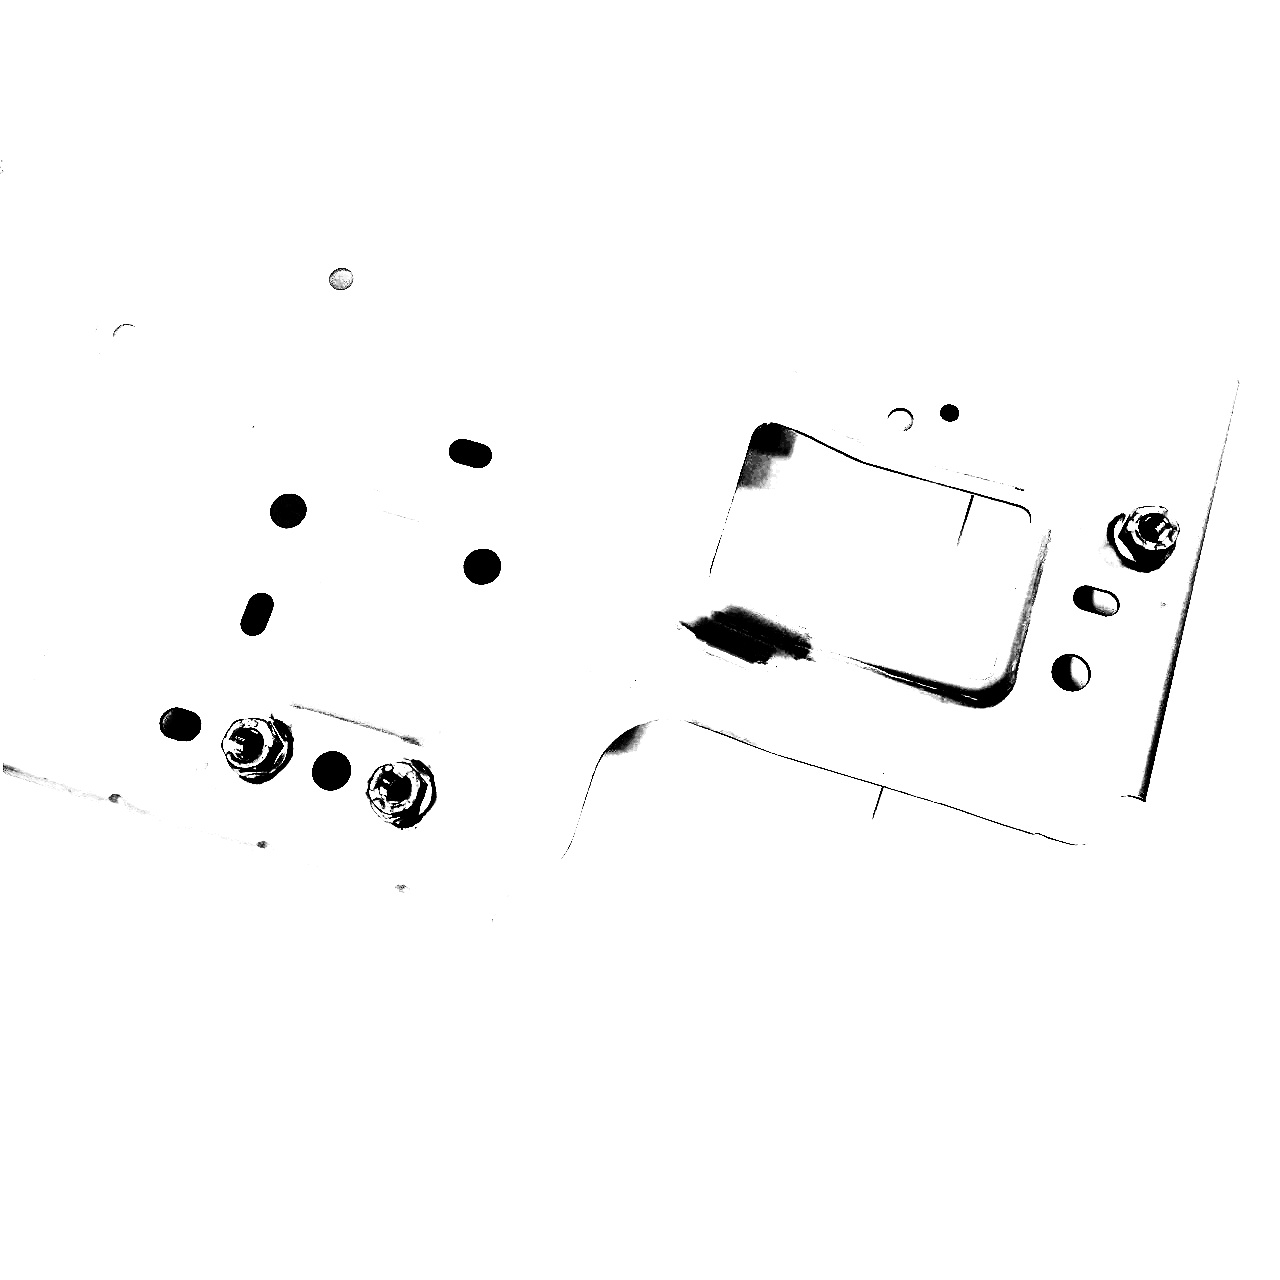dog: (218, 708, 297, 787), (362, 753, 440, 832), (1107, 498, 1182, 576)
